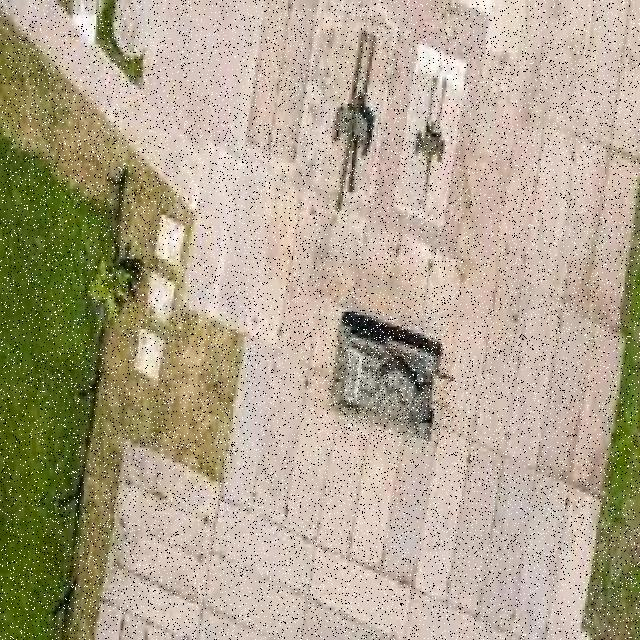MIL_MBT: (327, 309, 451, 443)
